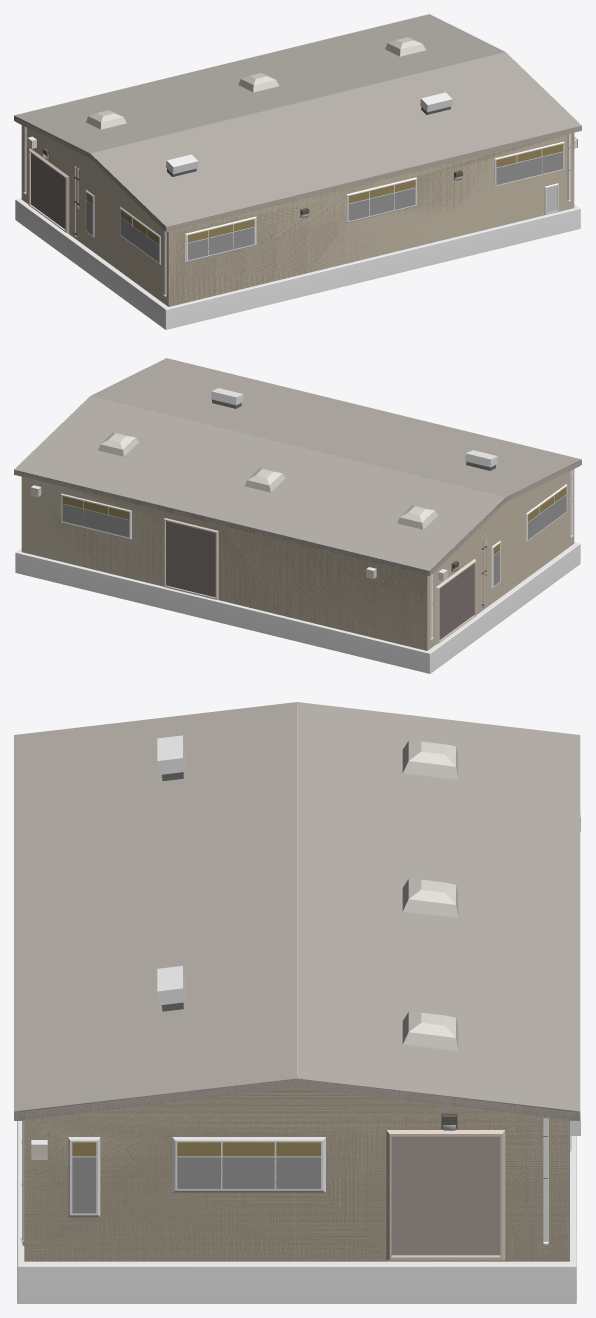
Rendered from warehouse_large.dae.
The picture shows the model from 3 angles, top to bottom: view 1: azimuth 30°, elevation 25°; view 2: azimuth 150°, elevation 25°; view 3: azimuth 270°, elevation 25°; orthographic projection. The views are drawn at different scales.
Visible parts, largest first — view 1: warehouse_large_a150, warehouse_large_a1000, warehouse_large_a300, Colmesh-1; view 2: warehouse_large_a150, warehouse_large_a1000, Colmesh-1, warehouse_large_a300; view 3: warehouse_large_a150, warehouse_large_a300, warehouse_large_a1000, Colmesh-1.
Part boxes in pixels (x1,y1,x2,y2): warehouse_large_a150: [14, 14, 581, 306]; warehouse_large_a1000: [14, 37, 581, 329]; warehouse_large_a300: [17, 118, 581, 306]; Colmesh-1: [21, 43, 568, 304]; warehouse_large_a150: [14, 358, 581, 650]; warehouse_large_a1000: [14, 388, 581, 673]; Colmesh-1: [21, 437, 574, 649]; warehouse_large_a300: [14, 470, 504, 649]; warehouse_large_a150: [14, 702, 580, 1261]; warehouse_large_a300: [24, 1078, 569, 1261]; warehouse_large_a1000: [14, 702, 580, 1303]; Colmesh-1: [21, 741, 571, 1260].
Bounding box in the file's own units: 37.34 × 23.72 × 10.77.
